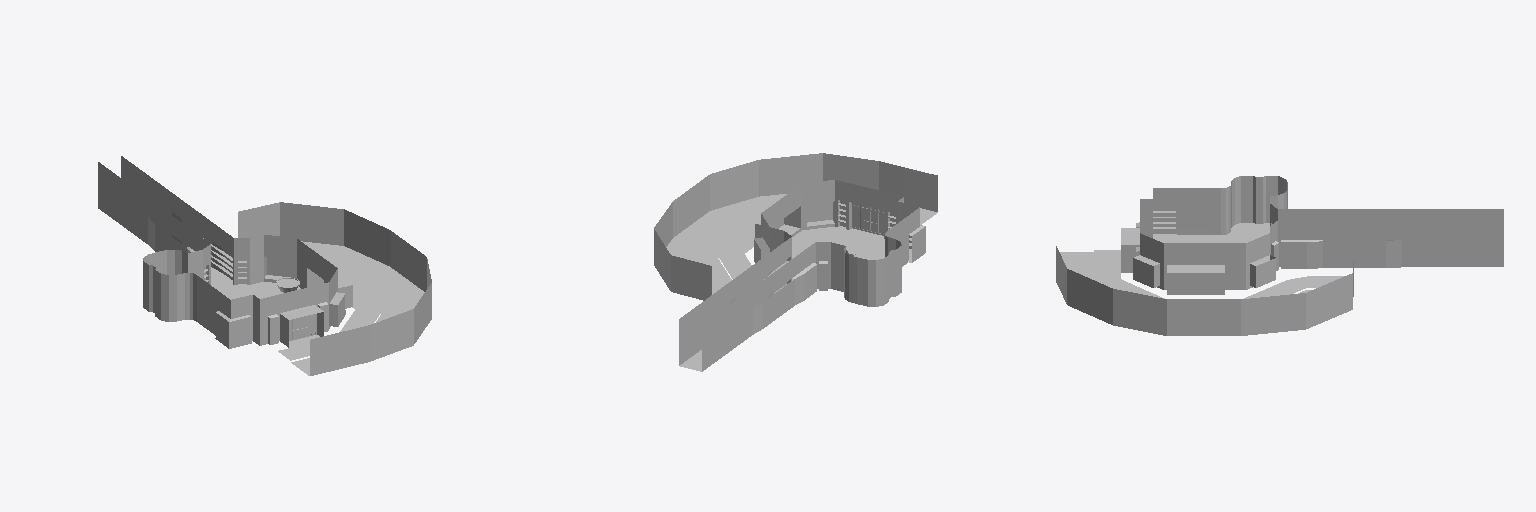
Rendered from lobby.obj.
3 views of the same model, side by side, from view 1: azimuth 30°, elevation 25°; view 2: azimuth 150°, elevation 25°; view 3: azimuth 270°, elevation 25° (orthographic).
Visible parts, largest first — view 1: frontend.w; view 2: frontend.w; view 3: frontend.w.
Boxes of the visible parts, box(x1,y1,x2,y2) form: frontend.w: box(98, 156, 431, 375); frontend.w: box(654, 153, 937, 371); frontend.w: box(1056, 176, 1503, 335).
Bounding box in the file's own units: 81.42 × 16.53 × 138.